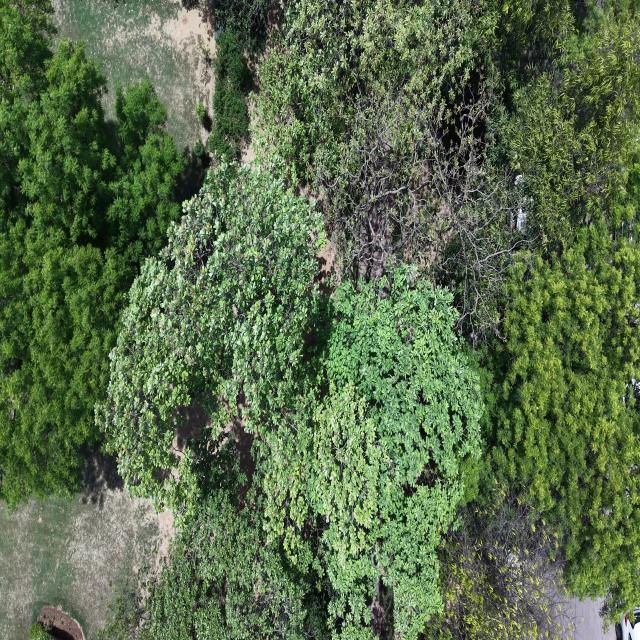DRY_AREA: (0, 487, 172, 639), (52, 0, 214, 150), (53, 0, 214, 150), (53, 0, 214, 149), (572, 598, 615, 639), (37, 606, 85, 639)
VEGETATION_TREE: (0, 0, 639, 639), (254, 0, 638, 637), (258, 0, 639, 606), (98, 163, 482, 637), (257, 0, 639, 341), (0, 0, 186, 506), (488, 3, 639, 613), (257, 0, 524, 333), (262, 267, 482, 637), (97, 163, 323, 512), (492, 224, 639, 602), (101, 440, 326, 639), (499, 3, 639, 250), (425, 485, 575, 639), (107, 80, 187, 265), (196, 0, 269, 161), (207, 30, 249, 161), (183, 0, 276, 54), (98, 568, 147, 639), (29, 622, 53, 639), (196, 102, 210, 126), (194, 139, 206, 158)
